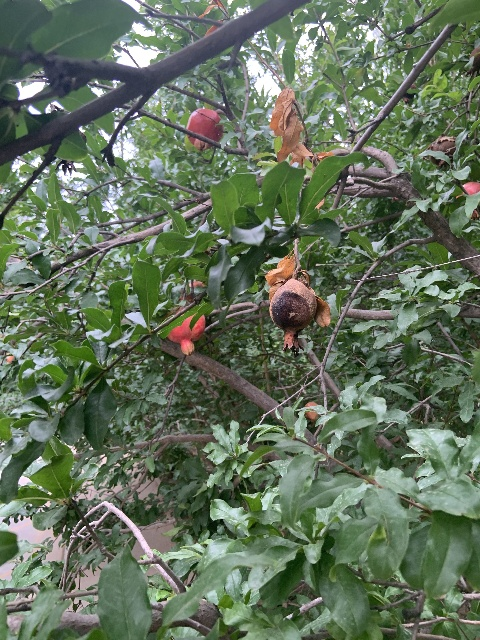ripe: (185, 108, 224, 151), (167, 313, 205, 354)
